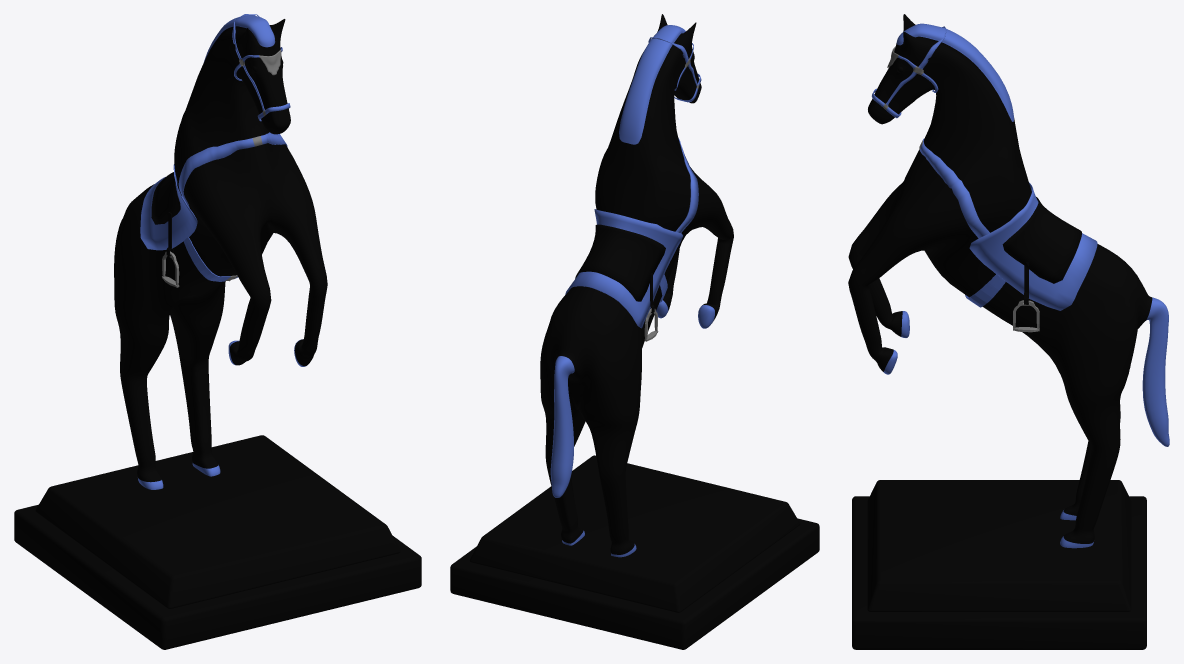
Rendered from Pferd_schwarz.fbx.
3 renders of one model, left to right at view 1: azimuth 30°, elevation 25°; view 2: azimuth 150°, elevation 25°; view 3: azimuth 270°, elevation 25°, orthographic. The views are drawn at different scales.
Visible parts, largest first — view 1: Pferd, base2, base, saddle_1, saddle_belt_1, saddle_2, harness; view 2: Pferd, base2, base, saddle_2, saddle_1, saddle_belt_1; view 3: Pferd, base2, base, saddle_1, saddle_2, saddle_belt_1, harness, saddle_belt_2, stirrup_1.
Part boxes in pixels (x1,y1,x2,y2): Pferd: (114,15,327,489); base2: (35,435,400,608); base: (14,504,421,649); saddle_1: (140,164,197,250); saddle_belt_1: (178,132,287,207); saddle_2: (151,172,180,224); harness: (232,14,290,121); Pferd: (540,14,733,557); base2: (469,455,799,612); base: (450,518,819,649); saddle_2: (575,224,665,301); saddle_1: (565,209,682,328); saddle_belt_1: (675,138,698,232); Pferd: (848,14,1169,548); base2: (867,480,1131,611); base: (852,496,1146,649); saddle_1: (969,182,1097,310); saddle_2: (1002,197,1081,283); saddle_belt_1: (919,138,989,238); harness: (871,26,946,118); saddle_belt_2: (965,274,1005,307); stirrup_1: (1013,262,1039,332).
Size of the model in its own units: 5 by 10.59 by 5.45.
